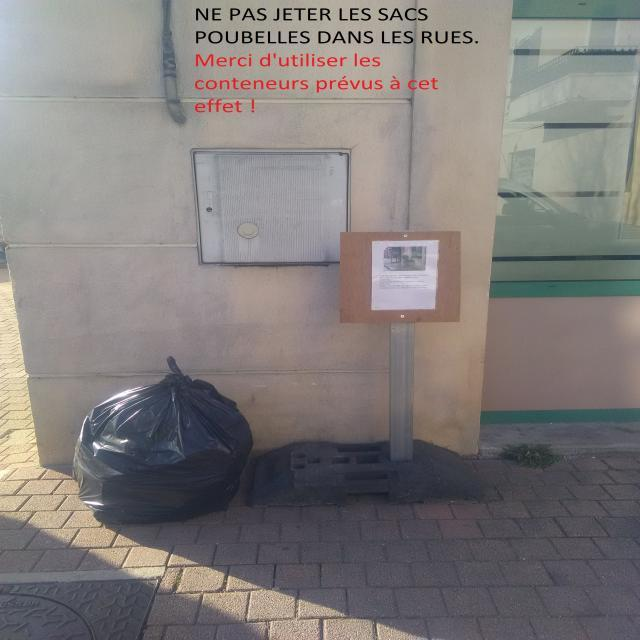garbage: (42, 330, 260, 540)
